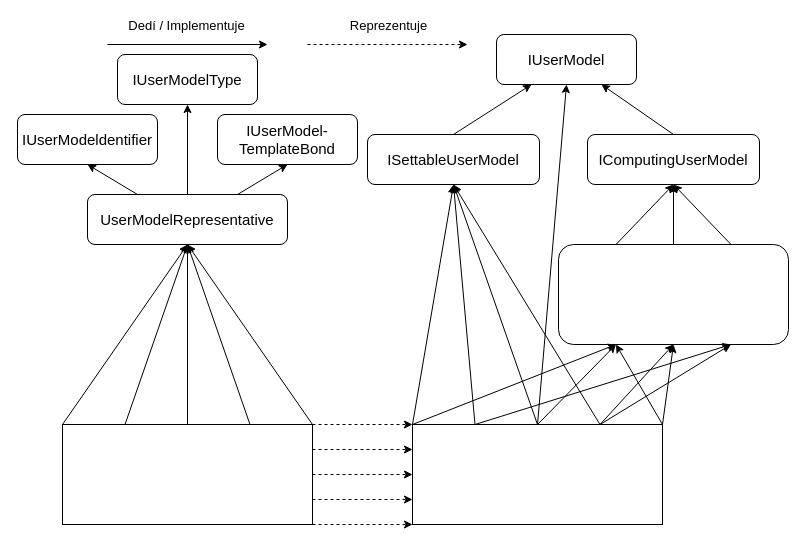
Some shapes in this 806 by 550 pixel diagram are drawn without their labels. Each missing label, with the centre of its shape:
"Rozhrania definujúce výpočtovú funkcionalitu užívateľských modelov" belongs at pixel 673 294.
"Triedy implementujúce reprezentantov užívateľských modelov" belongs at pixel 187 474.
"Triedy implementujúce užívateľské modely" belongs at pixel 537 474.
